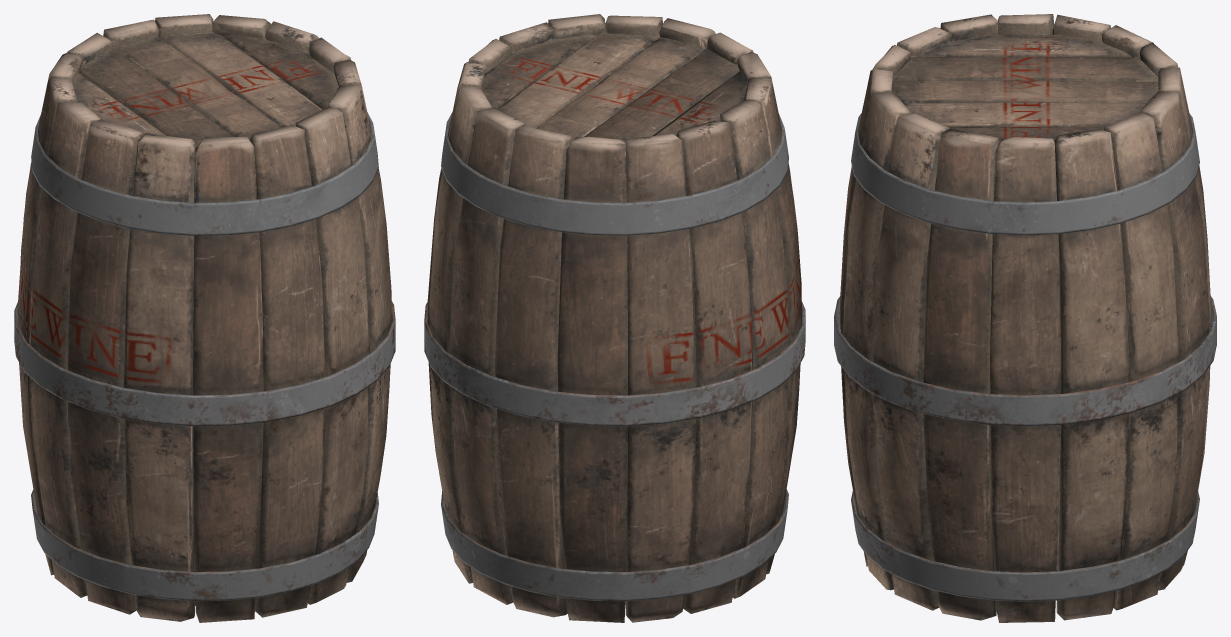
File: SM_Barrel01_1_LOD0.glb
3 renders of one model, left to right at view 1: azimuth 30°, elevation 25°; view 2: azimuth 150°, elevation 25°; view 3: azimuth 270°, elevation 25°, orthographic.
Visible parts, largest first — view 1: SM_Barrel01_1_LOD0; view 2: SM_Barrel01_1_LOD0; view 3: SM_Barrel01_1_LOD0.
Part boxes in pixels (x1,y1,x2,y2): SM_Barrel01_1_LOD0: (14,14,395,622); SM_Barrel01_1_LOD0: (424,14,805,622); SM_Barrel01_1_LOD0: (834,14,1216,622).
Size of the model in its own units: 0.5945 by 0.8191 by 0.5945.
1 material, 1 textured.
